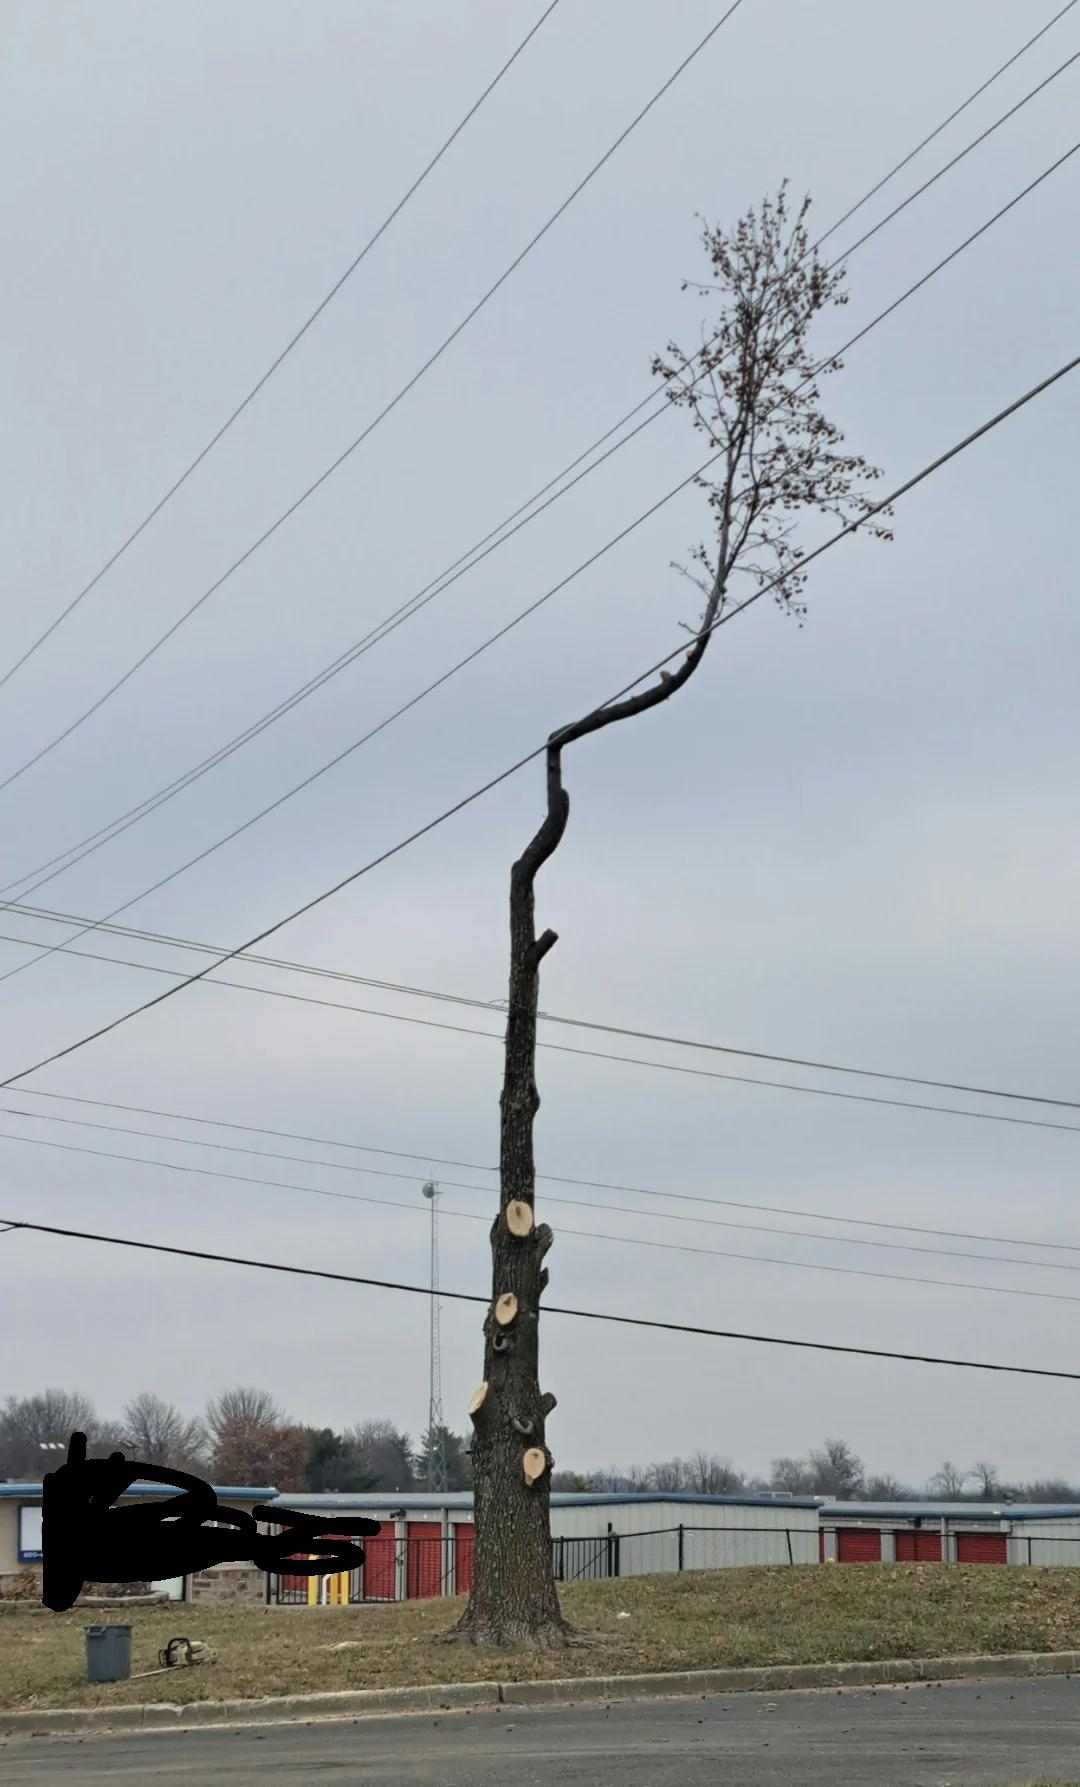mechanical damage: (506, 1200, 534, 1237), (523, 1447, 546, 1484), (495, 1292, 517, 1326)
